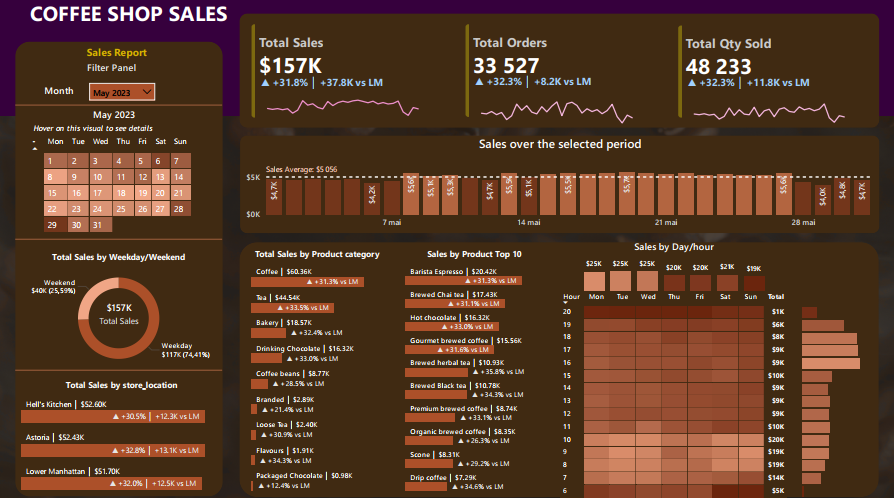

This screenshot's page, from the dashboard's own definition file:
{"tool":"powerbi","page":{"name":"Page 1","canvas":[1400,850],"ordinal":0},"visuals":[{"type":"shape","box":[375.3,416.1,1001.1,398.9],"z":0},{"type":"shape","box":[0,17,1400.8,200.6],"z":1000},{"type":"shape","box":[375.3,58,1001.2,179],"z":2000},{"type":"shape","box":[23.8,102,324.7,712.3],"z":3000},{"type":"textbox","box":[15.1,29,374.2,61.3],"z":4000},{"type":"cardVisual","fields":{"Data":["Transactions.Total Sales"]},"box":[376.5,58,292.2,180.2],"z":4000,"group":"g1"},{"type":"cardVisual","fields":{"Data":["Date Table.Total Orders"]},"box":[711.1,58,292.2,179.7],"z":4000,"group":"g2"},{"type":"cardVisual","fields":{"Data":["Date Table.Total Qty Sold"]},"box":[1044.4,60.5,292.2,178.4],"z":4000,"group":"g3"},{"type":"slicer","fields":{"Values":["Date Table.Month Year"]},"box":[135.5,162.4,112.9,39.8],"z":5000},{"type":"lineChart","fields":{"Category":["Date Table.Date Hierarchy.Date"],"Y":["Date Table.Total Orders"]},"box":[738.3,153.3,265.4,83.1],"z":5001,"group":"g2"},{"type":"lineChart","fields":{"Category":["Date Table.Date Hierarchy.Date"],"Y":["Transactions.Total Sales"]},"box":[403.7,153.6,265.4,83.3],"z":5001,"group":"g1"},{"type":"lineChart","fields":{"Category":["Date Table.Date Hierarchy.Date"],"Y":["Date Table.Total Qty Sold"]},"box":[1071.6,155.1,265.4,82.5],"z":5001,"group":"g3"},{"type":"group","id":"g1","title":"Group 1","box":[376.5,58,292.6,179],"z":6000,"group":"g3"},{"type":"pivotTable","fields":{"Columns":["Date Table.Day Name"],"Rows":["Date Table.Week Number"],"Values":["Min(Date Table.Day Number)"]},"box":[40.9,243,290.3,181.7],"z":6000},{"type":"group","id":"g2","title":"Group 1","box":[711.1,58,292.6,179],"z":7000,"group":"g3"},{"type":"cardVisual","fields":{"Data":["Min(Date Table.Month Year)"]},"box":[117.2,186,131.2,57],"z":7000},{"type":"cardVisual","fields":{"Data":["Date Table.Foot note 1"]},"box":[23.7,210.8,257,52.7],"z":8000},{"type":"donutChart","fields":{"Category":["Date Table.Weekday/Weekend"],"Y":["Transactions.Total Sales"]},"box":[23.2,430.5,325.6,192.7],"z":9000},{"type":"cardVisual","fields":{"Data":["Transactions.Total Sales"]},"box":[125.8,477.7,122.4,98.6],"z":10000},{"type":"clusteredBarChart","title":"Total Sales by store_location","fields":{"Category":["Transactions.store_location"],"Y":["Transactions.Placeholder","Transactions.Total Sales"]},"box":[28,630.5,325.6,180.5],"z":11000},{"type":"shape","box":[23.7,188.2,324.7,26.9],"z":12000},{"type":"shape","box":[23.7,397.8,324.7,26.9],"z":13000},{"type":"shape","box":[23.7,603.2,324.7,26.9],"z":14000},{"type":"shape","box":[376.3,249.5,1001.1,152.7],"z":15000},{"type":"columnChart","title":"Sales over the selected period","fields":{"Category":["Transactions.transaction_date"],"Y":["Transactions.Total Sales"]},"box":[380.6,249.5,993.5,152.7],"z":16000},{"type":"clusteredBarChart","title":"Total Sales by Product category","fields":{"Category":["Transactions.product_category"],"Y":["Transactions.Placeholder","Transactions.Total Sales"]},"box":[389.3,425,215.5,385.7],"z":17000},{"type":"clusteredBarChart","title":"Sales by Product Top 10","fields":{"Category":["Transactions.product_type"],"Y":["Transactions.Placeholder","Transactions.Total Sales"]},"box":[629.8,425,226.2,385.7],"z":18000},{"type":"pivotTable","fields":{"Columns":["Date Table.Day Name"],"Rows":["Transactions.Hour"],"Values":["Transactions.Total Sales"]},"box":[871.6,487.7,379,337],"z":19000},{"type":"barChart","fields":{"Category":["Transactions.Hour"],"Y":["Transactions.Total Sales"]},"box":[1250.5,505.4,101.1,314],"z":20000},{"type":"group","id":"g3","title":"Group 2","box":[376.5,58,960.5,181.5],"z":21000},{"type":"columnChart","title":"Sales by Day/hour","fields":{"Category":["Date Table.Day Name"],"Y":["Transactions.Total Sales"]},"box":[908.6,411.8,294.6,86],"z":22000},{"type":"textbox","box":[40.9,163.4,104.3,31.2],"z":23000},{"type":"textbox","box":[98.9,102.2,167.7,40.9],"z":24000},{"type":"textbox","box":[98.9,126.9,151.6,31.2],"z":25000}]}

Visuals, with their boxes on the page's 1400x850 design canvas (x1, y1, x2, y2). These are canvas units, not pixel positions in the 894x498 screenshot, which may show the page scaled, cropped or inside an application window:
shape: detection(375, 416, 1376, 815)
shape: detection(0, 17, 1401, 218)
shape: detection(375, 58, 1376, 237)
shape: detection(24, 102, 348, 814)
textbox: detection(15, 29, 389, 90)
cardVisual - Transactions.Total Sales: detection(376, 58, 669, 238)
cardVisual - Date Table.Total Orders: detection(711, 58, 1003, 238)
cardVisual - Date Table.Total Qty Sold: detection(1044, 60, 1337, 239)
slicer - Date Table.Month Year: detection(136, 162, 248, 202)
lineChart - Date Table.Date Hierarchy.Date x Date Table.Total Orders: detection(738, 153, 1004, 236)
lineChart - Date Table.Date Hierarchy.Date x Transactions.Total Sales: detection(404, 154, 669, 237)
lineChart - Date Table.Date Hierarchy.Date x Date Table.Total Qty Sold: detection(1072, 155, 1337, 238)
"Group 1" group: detection(376, 58, 669, 237)
pivotTable - Date Table.Day Name x Date Table.Week Number: detection(41, 243, 331, 425)
"Group 1" group: detection(711, 58, 1004, 237)
cardVisual - Min(Date Table.Month Year): detection(117, 186, 248, 243)
cardVisual - Date Table.Foot note 1: detection(24, 211, 281, 264)
donutChart - Date Table.Weekday/Weekend x Transactions.Total Sales: detection(23, 430, 349, 623)
cardVisual - Transactions.Total Sales: detection(126, 478, 248, 576)
"Total Sales by store_location" clusteredBarChart: detection(28, 630, 354, 811)
shape: detection(24, 188, 348, 215)
shape: detection(24, 398, 348, 425)
shape: detection(24, 603, 348, 630)
shape: detection(376, 250, 1377, 402)
"Sales over the selected period" columnChart: detection(381, 250, 1374, 402)
"Total Sales by Product category" clusteredBarChart: detection(389, 425, 605, 811)
"Sales by Product Top 10" clusteredBarChart: detection(630, 425, 856, 811)
pivotTable - Date Table.Day Name x Transactions.Hour: detection(872, 488, 1251, 825)
barChart - Transactions.Hour x Transactions.Total Sales: detection(1250, 505, 1352, 819)
"Group 2" group: detection(376, 58, 1337, 240)
"Sales by Day/hour" columnChart: detection(909, 412, 1203, 498)
textbox: detection(41, 163, 145, 195)
textbox: detection(99, 102, 267, 143)
textbox: detection(99, 127, 250, 158)
